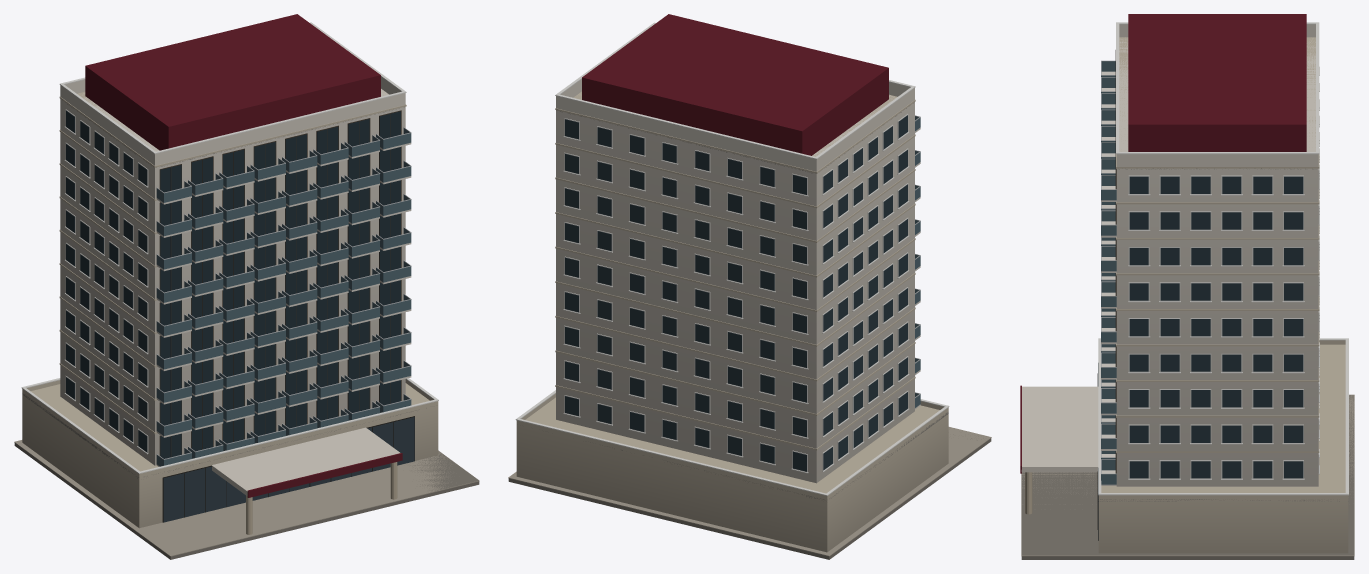
Rendered from ns_hotel.glb.
3 renders of one model, left to right at view 1: azimuth 30°, elevation 25°; view 2: azimuth 150°, elevation 25°; view 3: azimuth 270°, elevation 25°, orthographic. The views are drawn at different scales.
Visible parts, largest first — view 1: ns_hotel; view 2: ns_hotel; view 3: ns_hotel.
Boxes of the visible parts, x1,y1,x2,y2 form: ns_hotel: [14, 14, 479, 559]; ns_hotel: [508, 14, 991, 559]; ns_hotel: [1020, 14, 1354, 559].
Size of the model in its own units: 32.06 by 38.1 by 28.13.
